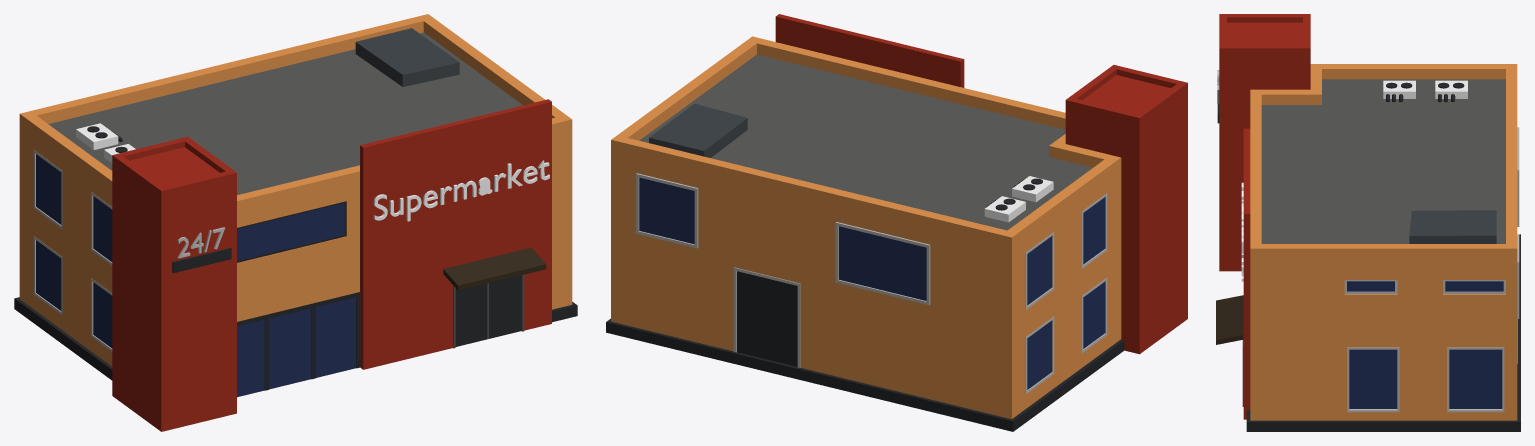
The model's file is Supermarket_1.fbx.
The picture shows the model from 3 angles, left to right: view 1: azimuth 30°, elevation 25°; view 2: azimuth 150°, elevation 25°; view 3: azimuth 270°, elevation 25°; orthographic projection. The views are drawn at different scales.
Visible parts, largest first — view 1: Supermarket_1; view 2: Supermarket_1; view 3: Supermarket_1.
Boxes of the visible parts, x1,y1,x2,y2 form: Supermarket_1: (14,14,577,431); Supermarket_1: (606,14,1187,431); Supermarket_1: (1216,14,1520,431).
Size of the model in its own units: 2381 by 1272 by 1574.
